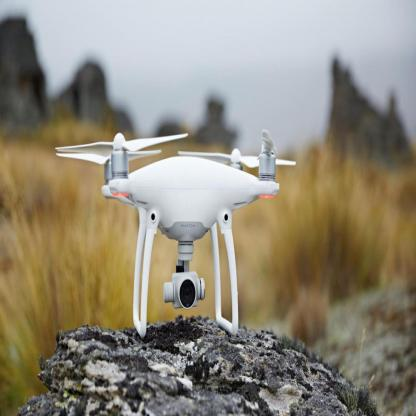drone: (43, 120, 320, 261)
